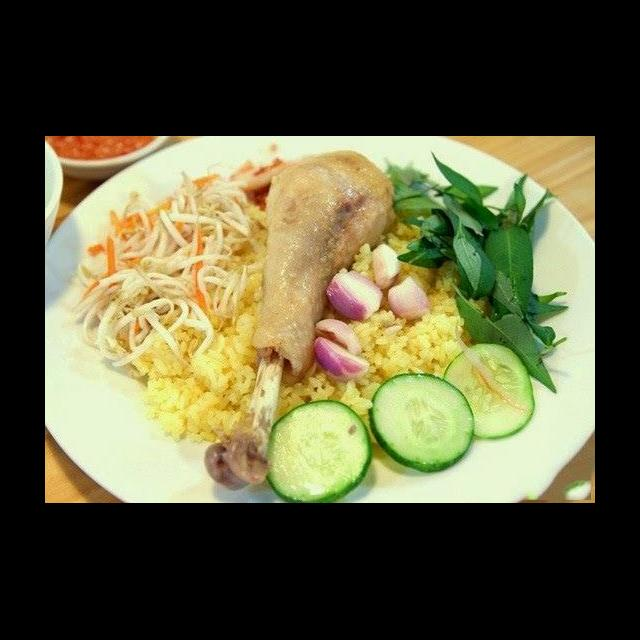com: (125, 254, 271, 448), (344, 306, 470, 392), (350, 220, 470, 310)
com ga: (48, 172, 591, 503)
rau ram: (379, 148, 571, 400)
thit ga: (200, 146, 402, 494)
